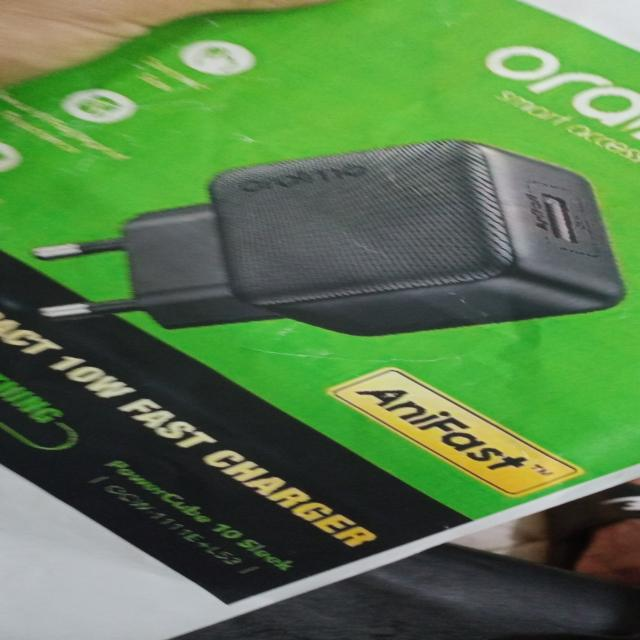PowerCube 10 Sleek OCW-1111ExL53: (70, 450, 320, 583)
